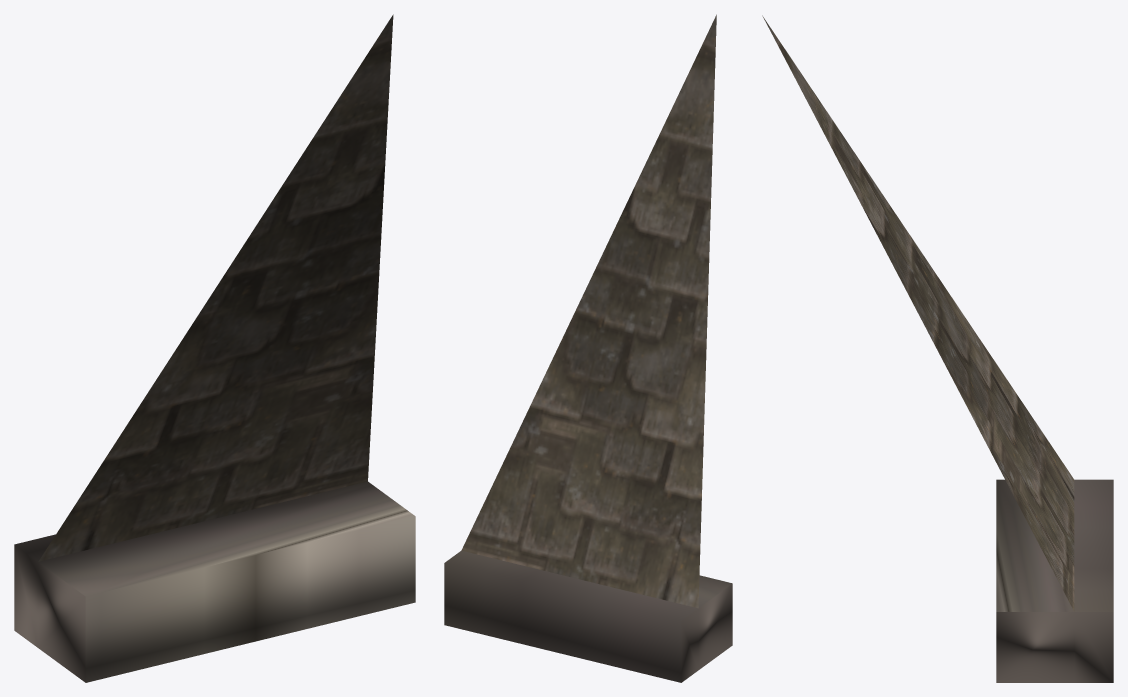
File: towerblock_roof2.glb
3 renders of one model, left to right at view 1: azimuth 30°, elevation 25°; view 2: azimuth 150°, elevation 25°; view 3: azimuth 270°, elevation 25°, orthographic. The views are drawn at different scales.
Parts seen in each view (by area): view 1: towerblock_roof2; view 2: towerblock_roof2; view 3: towerblock_roof2.
Boxes of the visible parts, left/top/right/bottom form: towerblock_roof2: left=14, top=14, right=415, bottom=682; towerblock_roof2: left=444, top=14, right=732, bottom=682; towerblock_roof2: left=762, top=15, right=1113, bottom=682.
Bounding box in the file's own units: 4 × 8.5 × 4.5.
Materials: 2 (2 with a texture image).
